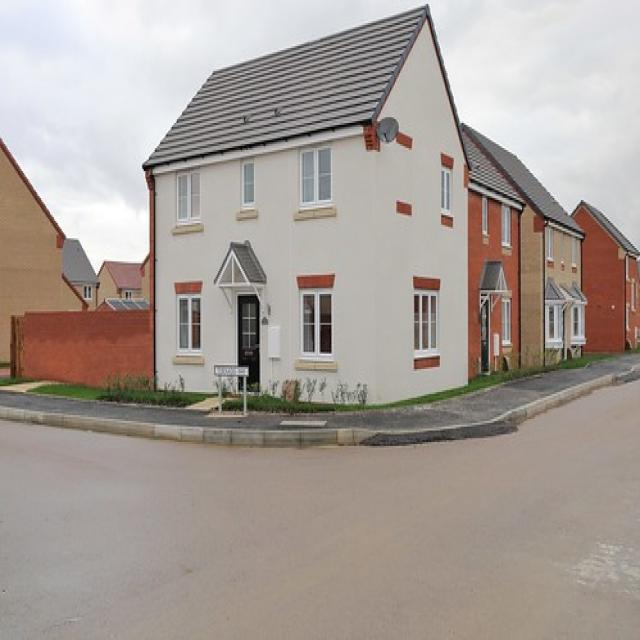building: (142, 7, 470, 418)
